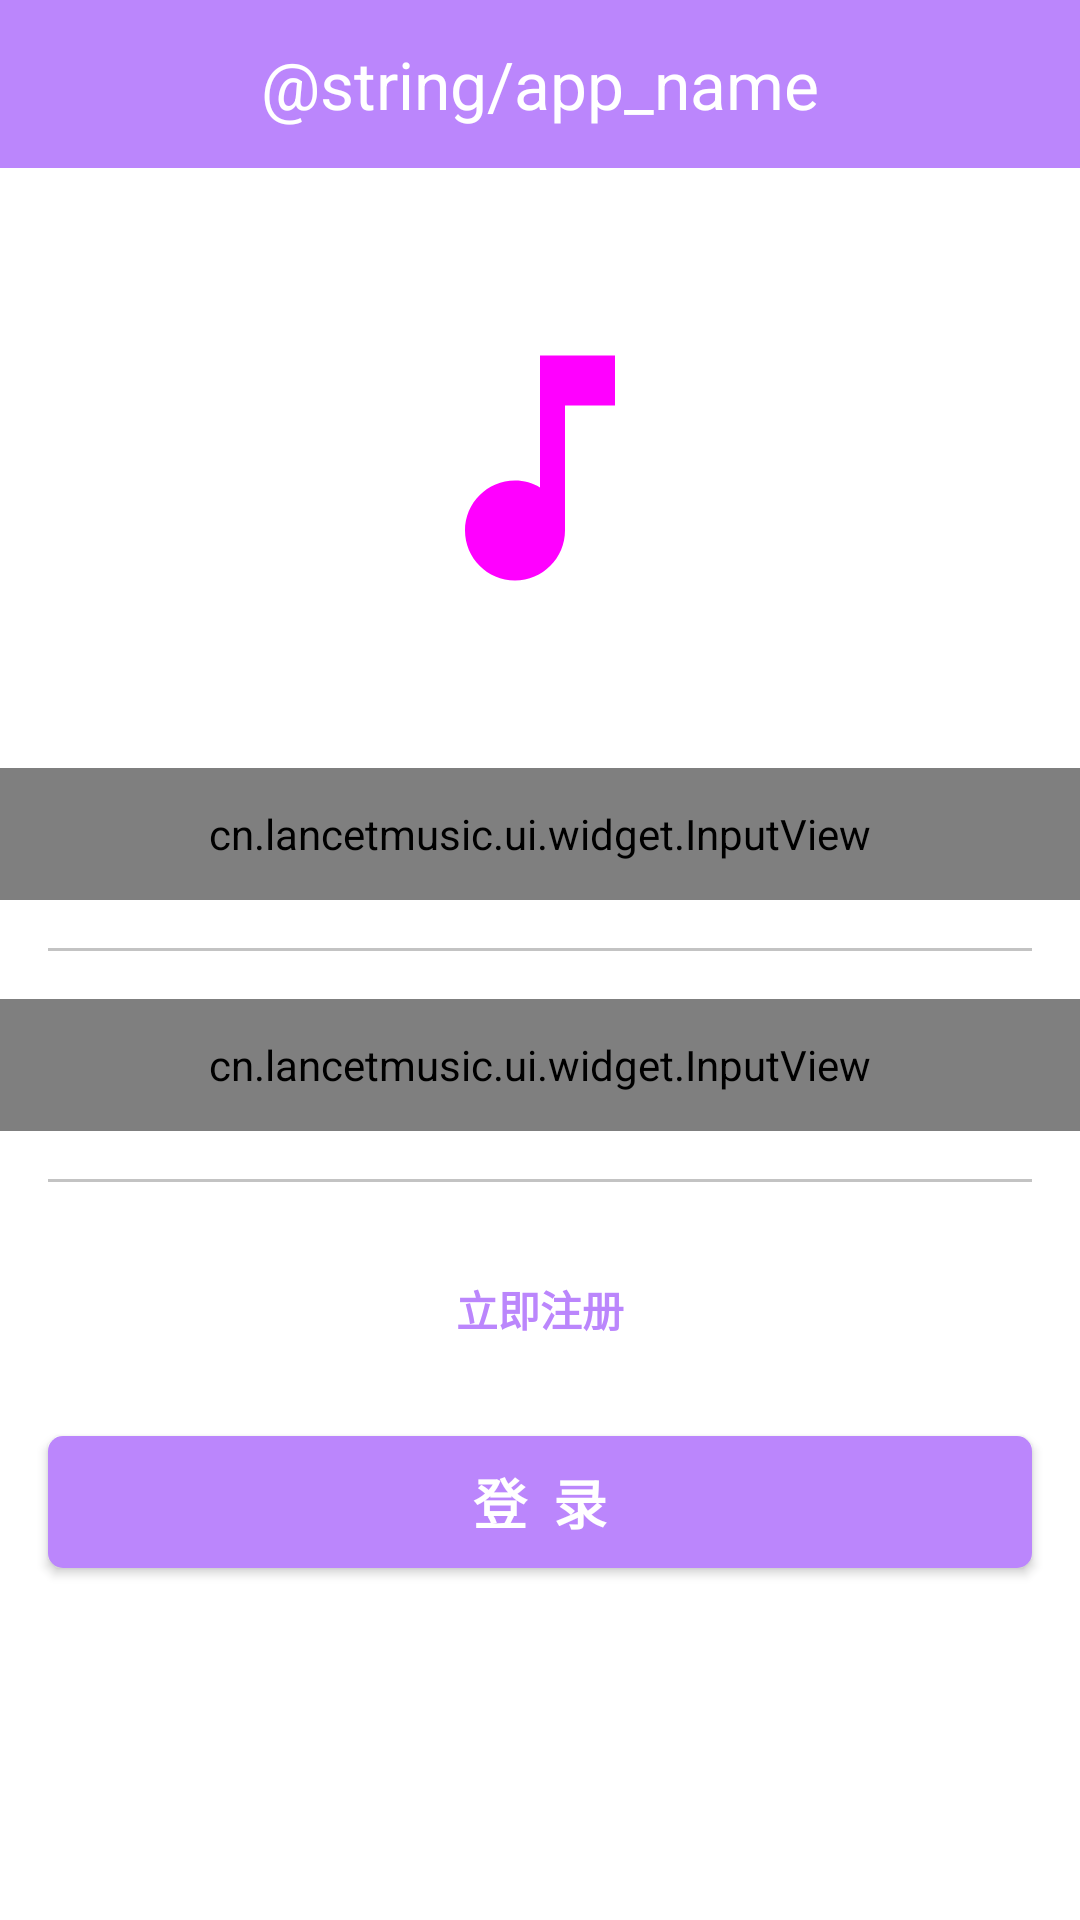

Icon click points for this 1080×1920 phone screenshot, format (x,y):
music note: (540,468)
